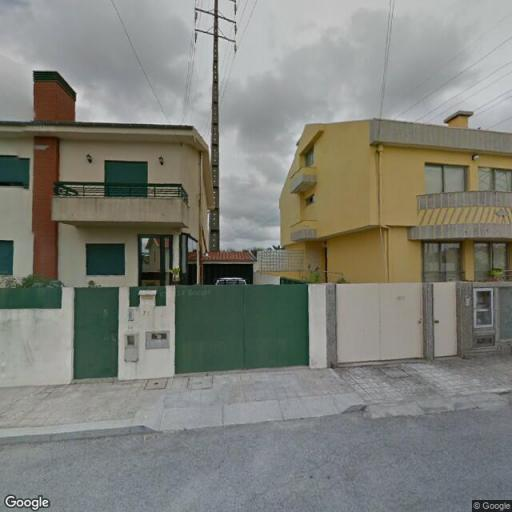mono_9: (190, 0, 244, 253)
